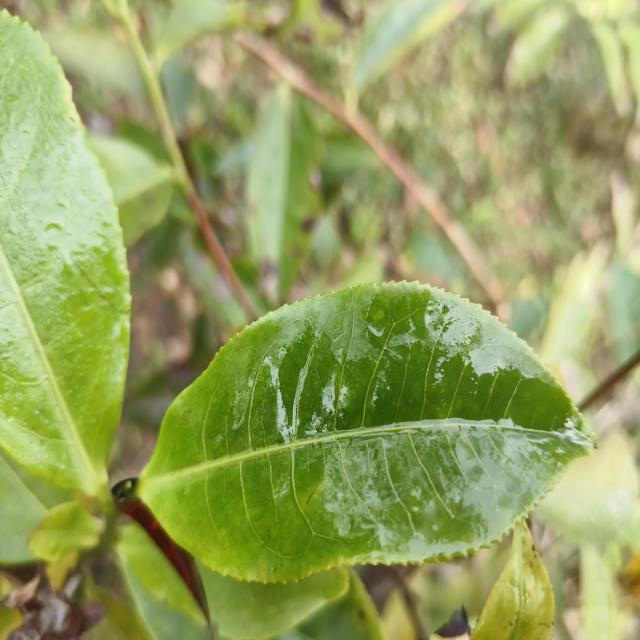Leaf: (137, 281, 593, 582), (0, 11, 131, 501), (247, 83, 319, 301), (347, 0, 469, 102), (199, 565, 347, 640), (470, 520, 554, 640), (92, 135, 174, 247), (41, 27, 147, 101), (117, 522, 202, 614), (156, 0, 248, 59), (506, 6, 569, 86), (28, 501, 104, 561)
